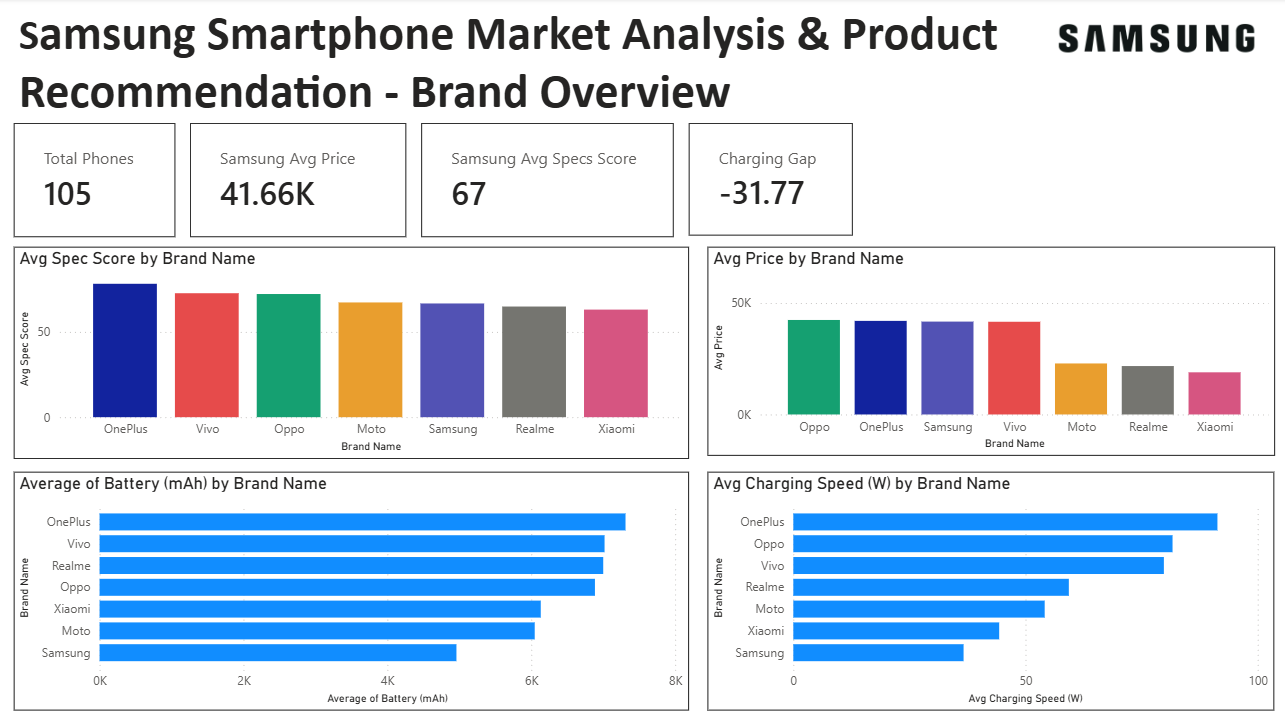

The dashboard page shown, as its layout file describes it:
{"tool":"powerbi","page":{"name":"Brand Overview","canvas":[1280,720],"ordinal":0},"visuals":[{"type":"image","box":[1035.2,0,232.4,80.3],"z":0},{"type":"textbox","box":[14.1,0,998.6,138],"z":1000},{"type":"clusteredColumnChart","fields":{"Y":["MobileTable.Avg Price"],"Category":["MobileTable.Brand Name"]},"box":[704.1,247.3,564.9,208.1],"z":2000},{"type":"clusteredColumnChart","fields":{"Y":["MobileTable.Avg Spec Score"],"Category":["MobileTable.Brand Name"]},"box":[13.5,247.3,671.6,210.8],"z":3000},{"type":"cardVisual","title":"ddd","fields":{"Data":["MobileTable.Total Phones"]},"box":[13.5,124.3,160.8,113.5],"z":4000},{"type":"cardVisual","fields":{"Data":["MobileTable.Samsung Avg Price"]},"box":[189.2,124.3,214.9,113.5],"z":5000},{"type":"cardVisual","fields":{"Data":["MobileTable.Samsung Avg Score"]},"box":[418.9,124.3,251.4,113.5],"z":6000},{"type":"clusteredBarChart","fields":{"Category":["MobileTable.Brand Name"],"Y":["Avg(MobileTable.Battery (mAh))"]},"box":[13.5,471.6,671.6,237.8],"z":7000},{"type":"clusteredBarChart","fields":{"Y":["MobileTable.Avg Charging Speed (W)"],"Category":["MobileTable.Brand Name"]},"box":[704.6,471.8,563.9,237.8],"z":8000},{"type":"cardVisual","fields":{"Data":["MobileTable.Charging Gap"]},"box":[685.1,124.3,163.5,112.2],"z":9000}]}

Visuals, with their boxes in screenshot pixels (x1, y1, x2, y2), scaled from the page's 1280x720 canvas onto the 1285x721 screenshot:
image: <box>1039,0,1273,80</box>
textbox: <box>14,0,1017,138</box>
clusteredColumnChart - MobileTable.Avg Price x MobileTable.Brand Name: <box>707,248,1274,456</box>
clusteredColumnChart - MobileTable.Avg Spec Score x MobileTable.Brand Name: <box>14,248,688,459</box>
"ddd" cardVisual: <box>14,124,175,238</box>
cardVisual - MobileTable.Samsung Avg Price: <box>190,124,406,238</box>
cardVisual - MobileTable.Samsung Avg Score: <box>421,124,673,238</box>
clusteredBarChart - MobileTable.Brand Name x Avg(MobileTable.Battery (mAh)): <box>14,472,688,710</box>
clusteredBarChart - MobileTable.Avg Charging Speed (W) x MobileTable.Brand Name: <box>707,472,1273,711</box>
cardVisual - MobileTable.Charging Gap: <box>688,124,852,237</box>
